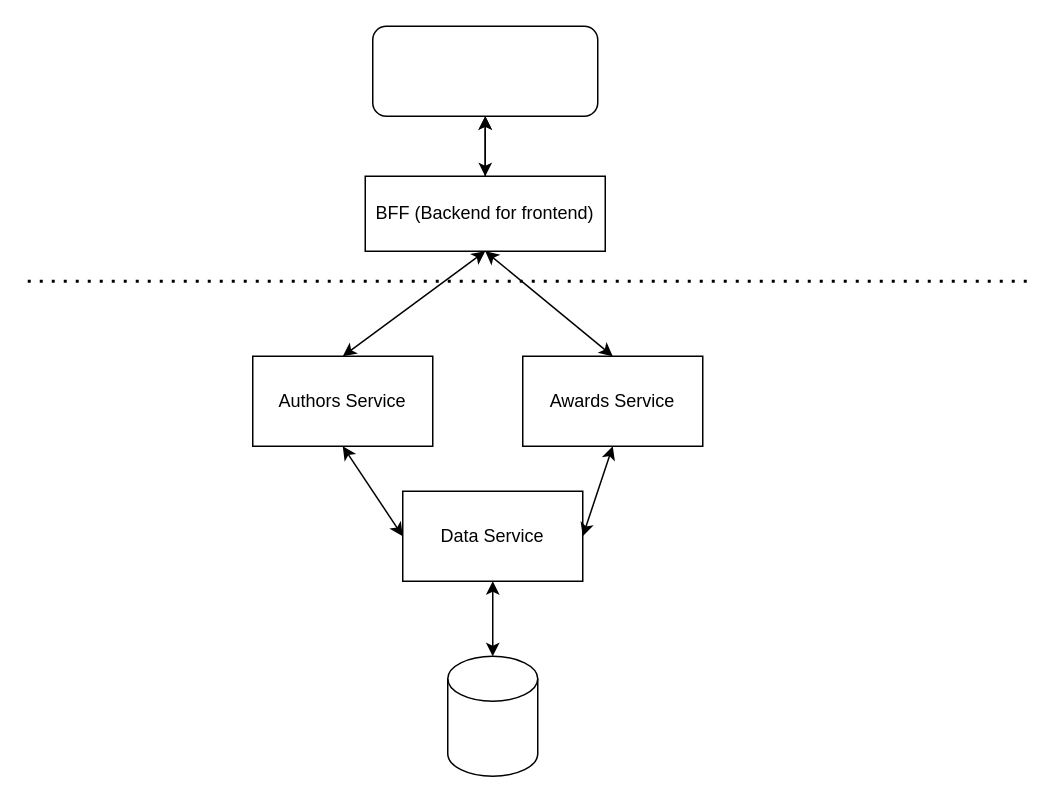
Image size: 1061x803. Some labels were removed from this diagram. The centre of each missing label's shape, as x and y in pixels:
"Database" goes at pixel 492 715.
"Frontend (Angular, React, Vue, ...)" goes at pixel 484 70.
